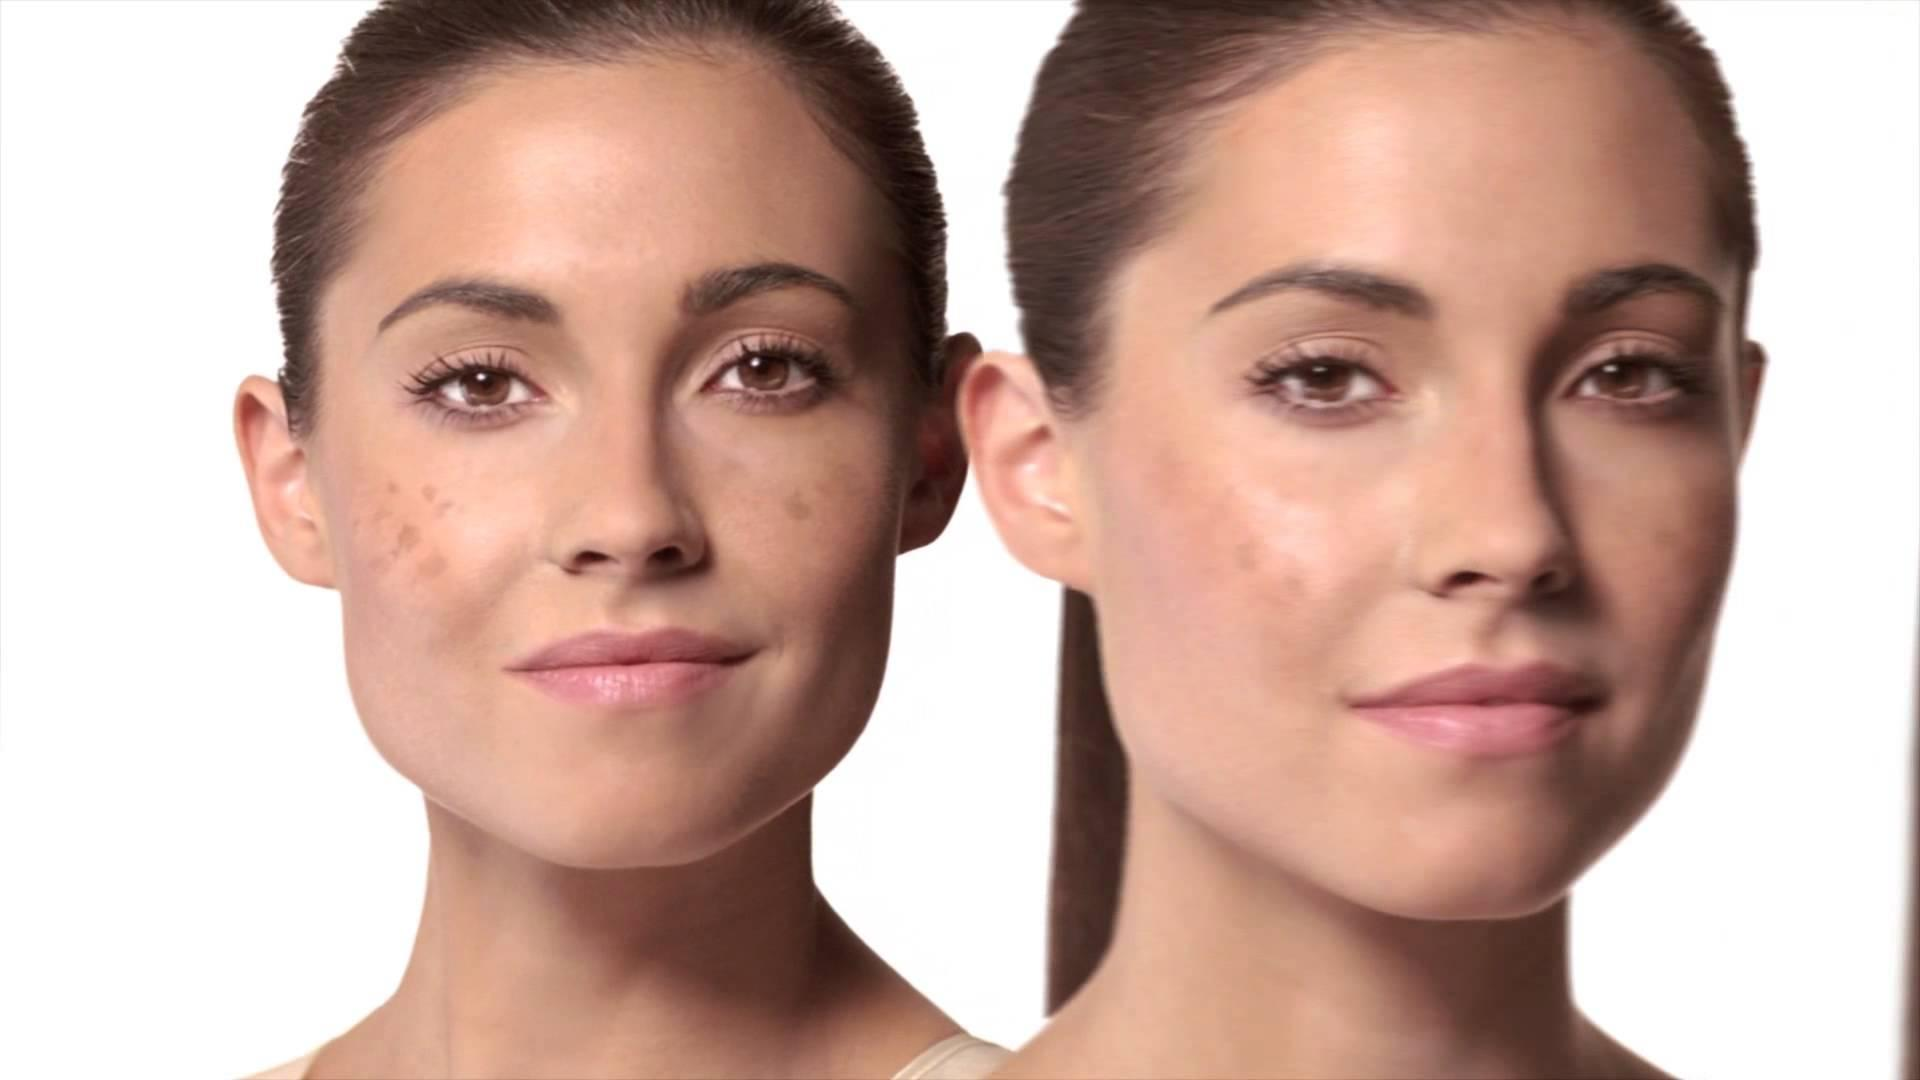Dark-Spots: (1153, 446, 1328, 682), (352, 460, 473, 604), (719, 462, 887, 562), (1617, 496, 1749, 624)
